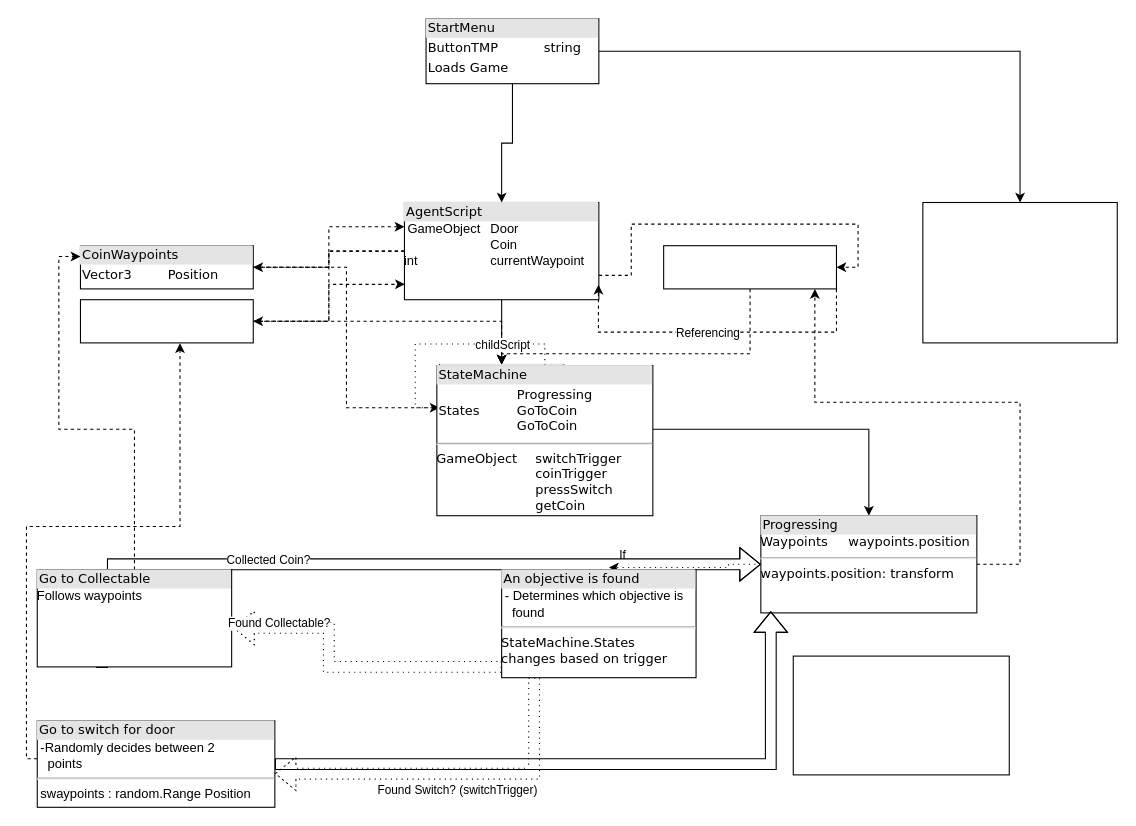
This 1136x826 diagram has some shape labels left out. Each missing label, with the centre of its shape:
ObstacleMove Vector3 currentPos start end float moveSpeed Transform Endpoint: point (1019, 272)
reached end destination WinGame() winText : string: point (900, 715)
SwitchWaypoints Vector3 Position: point (166, 321)
Waypoints Vector3 Position: point (749, 267)
